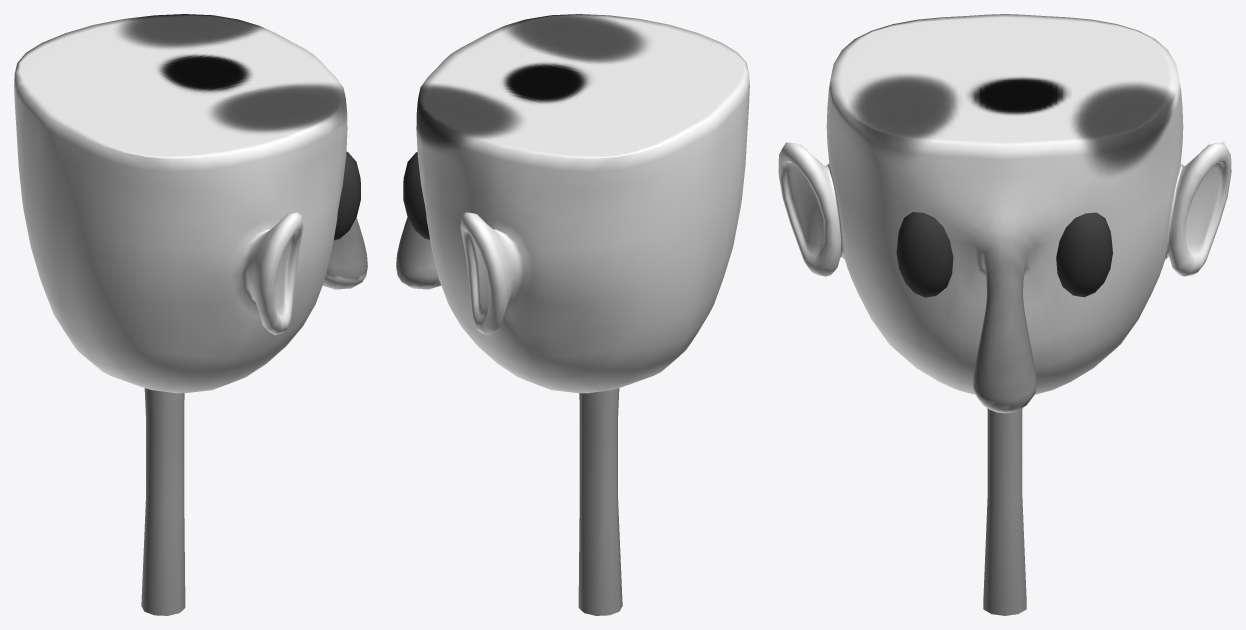
Rendered from Head02.fbx.
3 views of the same model, side by side, from view 1: azimuth 30°, elevation 25°; view 2: azimuth 150°, elevation 25°; view 3: azimuth 270°, elevation 25° (orthographic). The views are drawn at different scales.
Visible parts, largest first — view 1: pCube1, pCylinder1, pCube3; view 2: pCube1, pCylinder1, pCube2; view 3: pCube1, pCylinder1, pCube3, pCube2.
Part boxes in pixels (box(x1,y1,x2,y2)): pCube1: box(14, 14, 367, 393); pCylinder1: box(141, 388, 185, 615); pCube3: box(333, 152, 360, 240); pCube1: box(396, 14, 749, 393); pCylinder1: box(578, 388, 622, 615); pCube2: box(403, 152, 429, 239); pCube1: box(778, 14, 1231, 413); pCylinder1: box(983, 408, 1026, 615); pCube3: box(896, 212, 953, 297); pCube2: box(1056, 212, 1112, 297).
Bounding box in the file's own units: 13.89 × 21.65 × 16.62.
